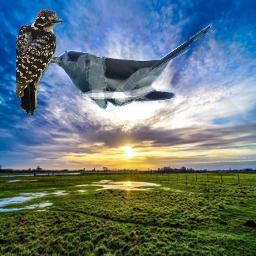Cuckoo: (42, 23, 218, 111)
Woodpecker: (16, 8, 63, 118)
